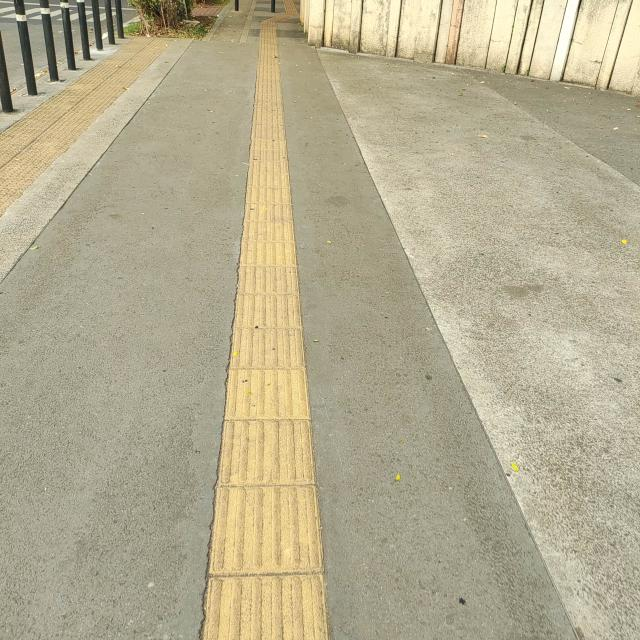lurus: (225, 59, 317, 640)
